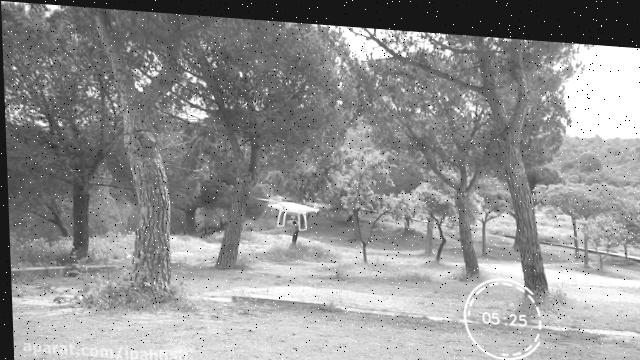drone: (250, 187, 331, 228)
